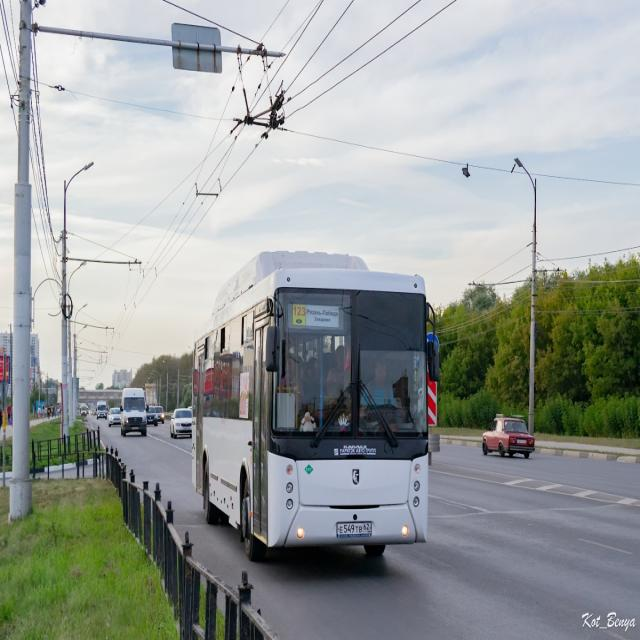number-of-bus: (294, 306, 307, 321)
